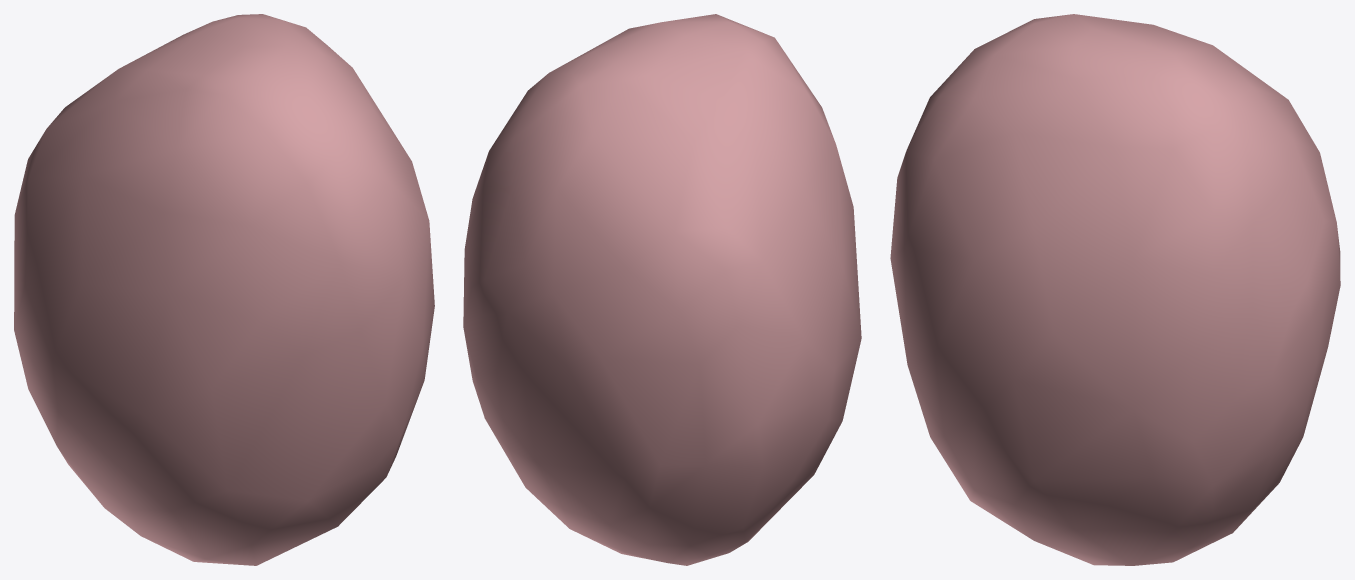
The model's file is fma7212.glb.
The picture shows the model from 3 angles, left to right: view 1: azimuth 30°, elevation 25°; view 2: azimuth 150°, elevation 25°; view 3: azimuth 270°, elevation 25°; orthographic projection. The views are drawn at different scales.
Parts seen in each view (by area): view 1: FMA7212; view 2: FMA7212; view 3: FMA7212.
Boxes of the visible parts, <box> form: FMA7212: <box>14,14,434,565</box>; FMA7212: <box>463,14,861,565</box>; FMA7212: <box>890,14,1340,565</box>.
Bounding box in the file's own units: 0.0206 × 0.0291 × 0.0226.
